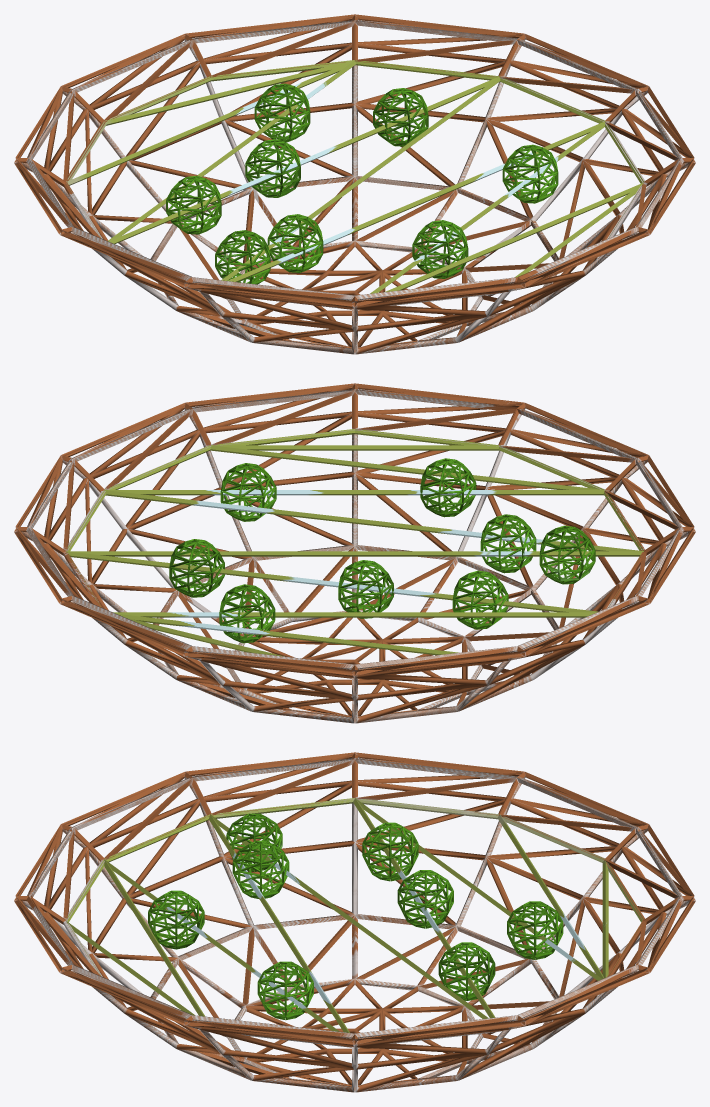
The model's file is cremaWireframe.glb.
3 renders of one model, top to bottom at view 1: azimuth 30°, elevation 25°; view 2: azimuth 150°, elevation 25°; view 3: azimuth 270°, elevation 25°, orthographic.
Visible parts, largest first — view 1: Plato3, polySurface42; view 2: Plato3, polySurface42; view 3: Plato3, polySurface42.
Part boxes in pixels (x1,y1,x2,y2): Plato3: (14,14,695,354); polySurface42: (166,83,558,284); Plato3: (14,383,695,723); polySurface42: (169,458,595,643); Plato3: (14,752,695,1092); polySurface42: (148,813,563,1020).
Bounding box in the file's own units: 2.31 × 0.5356 × 2.31.
3 materials, 3 textured.
